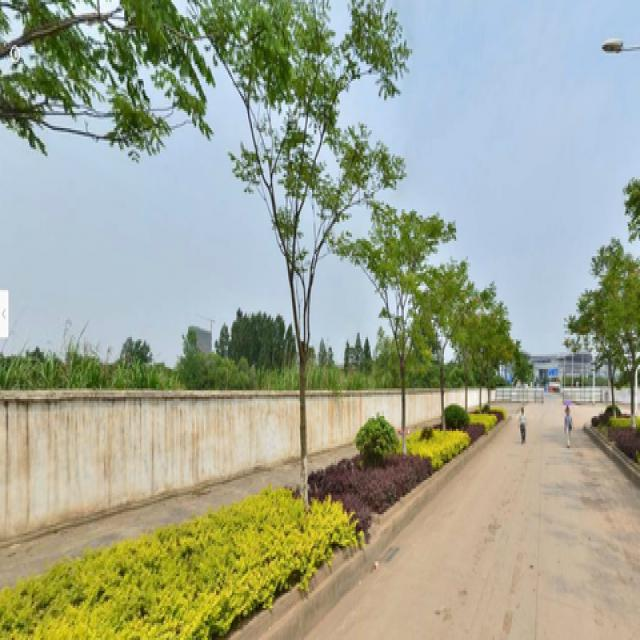koel: (235, 15, 349, 493), (369, 224, 427, 446), (435, 280, 464, 422)
